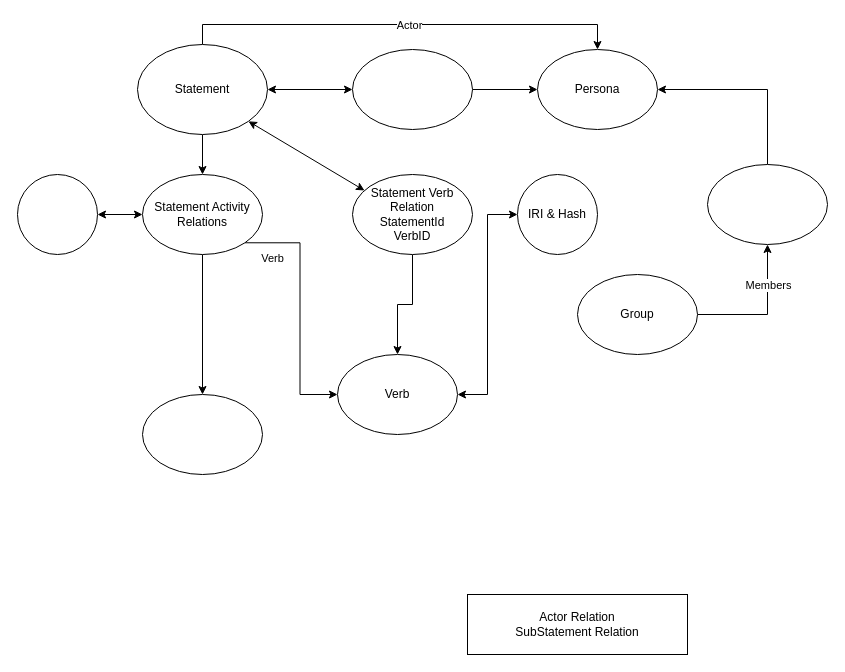
This 845x672 diagram has some shape labels left out. Each missing label, with the centre of its shape:
Activity: the point at 202,434
Activity Definition: the point at 57,214
Group Persona Relation: the point at 767,204
Statement Persona Relation: the point at 412,89
